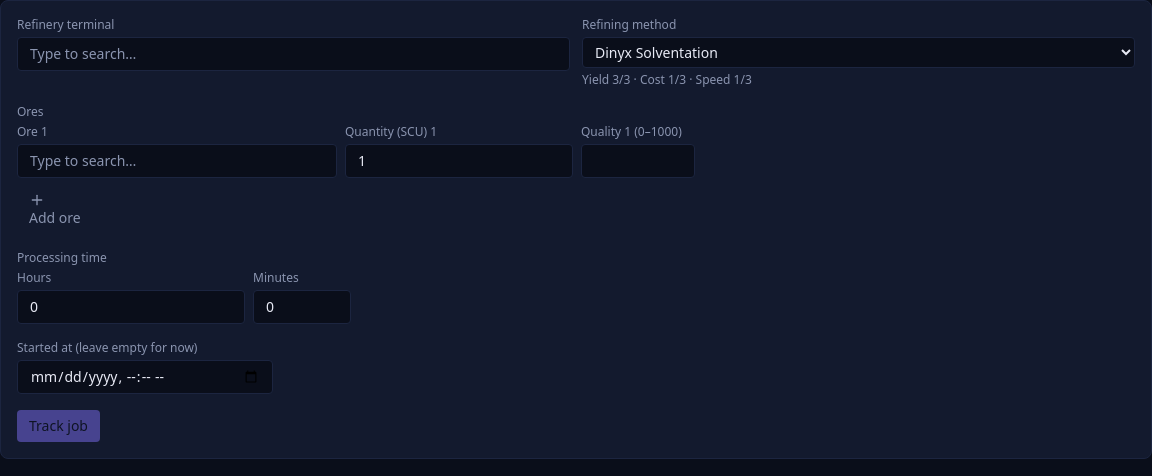
Test case: RefineryJobForm › shows the terminal's star system as autocomplete detail
Step 1. Click the dropdown labelled "Refinery terminal" → (294,54), box [17,37,570,71]
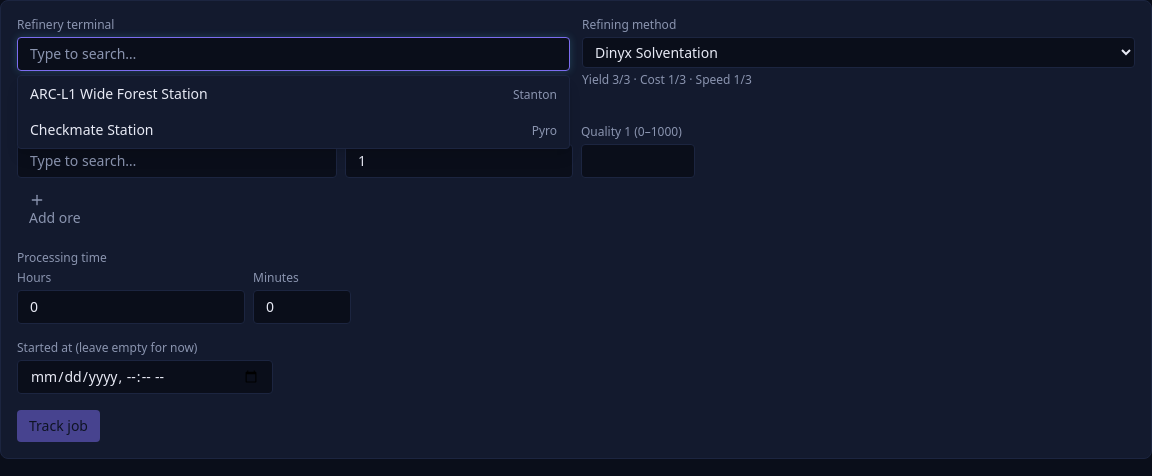
Now the option "Checkmate Station Pyro" is shown, box [30,120,557,139]
